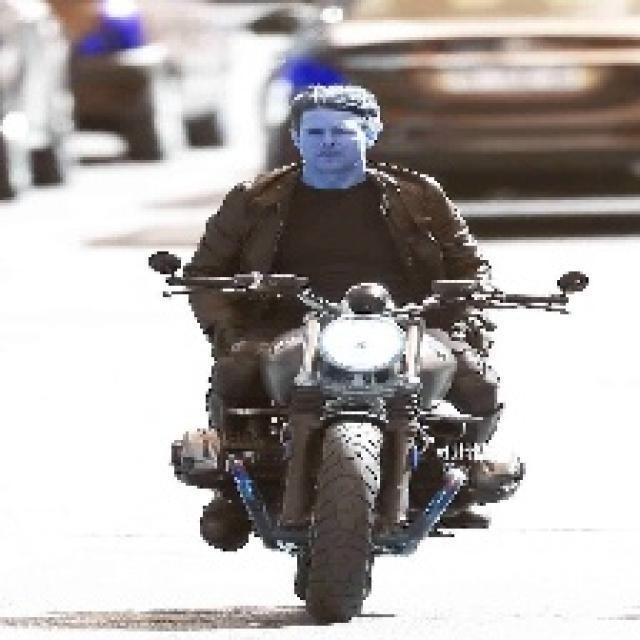bike: (215, 283, 493, 631)
